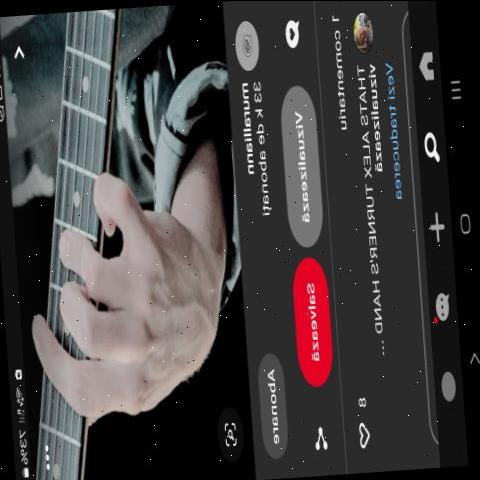Hands: (19, 144, 230, 434)
